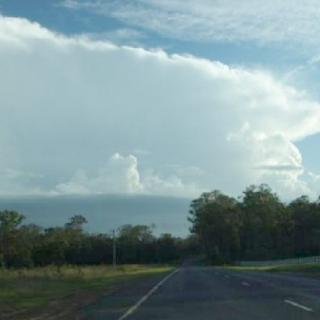Cumulonimbus: (0, 0, 320, 223)
